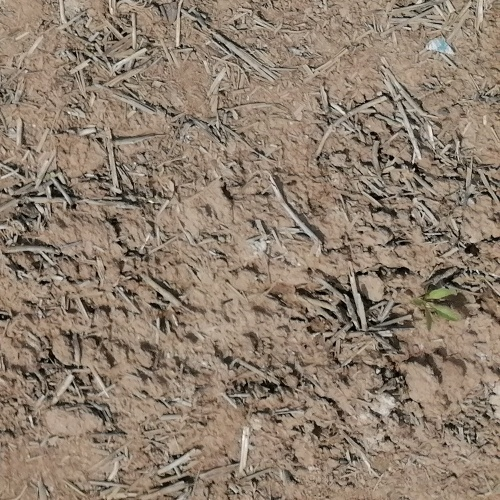beet: (408, 286, 460, 334)
